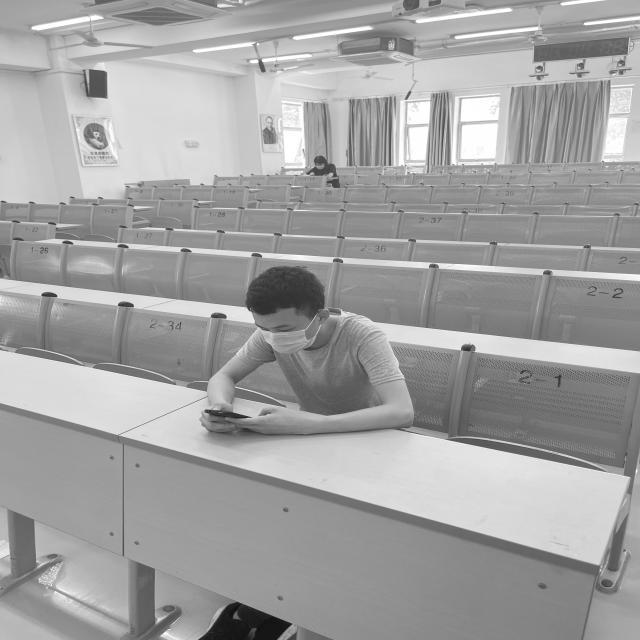phone: (201, 265, 412, 435)
